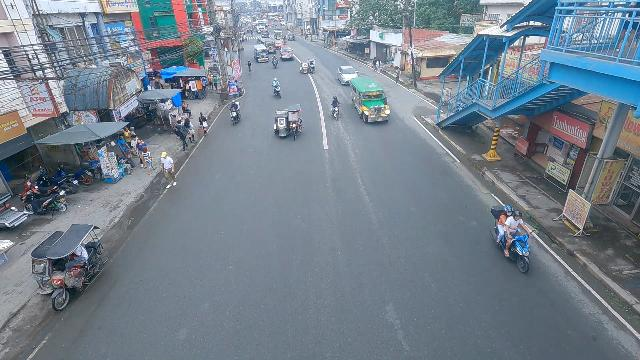car: (336, 64, 359, 85), (279, 44, 294, 61)
jeepney: (349, 76, 391, 124), (253, 44, 269, 63), (261, 37, 276, 54)
motorcycle: (491, 206, 536, 274), (228, 100, 242, 127), (330, 95, 341, 121), (270, 78, 282, 99), (271, 55, 279, 68), (282, 37, 287, 44), (257, 38, 261, 45)
